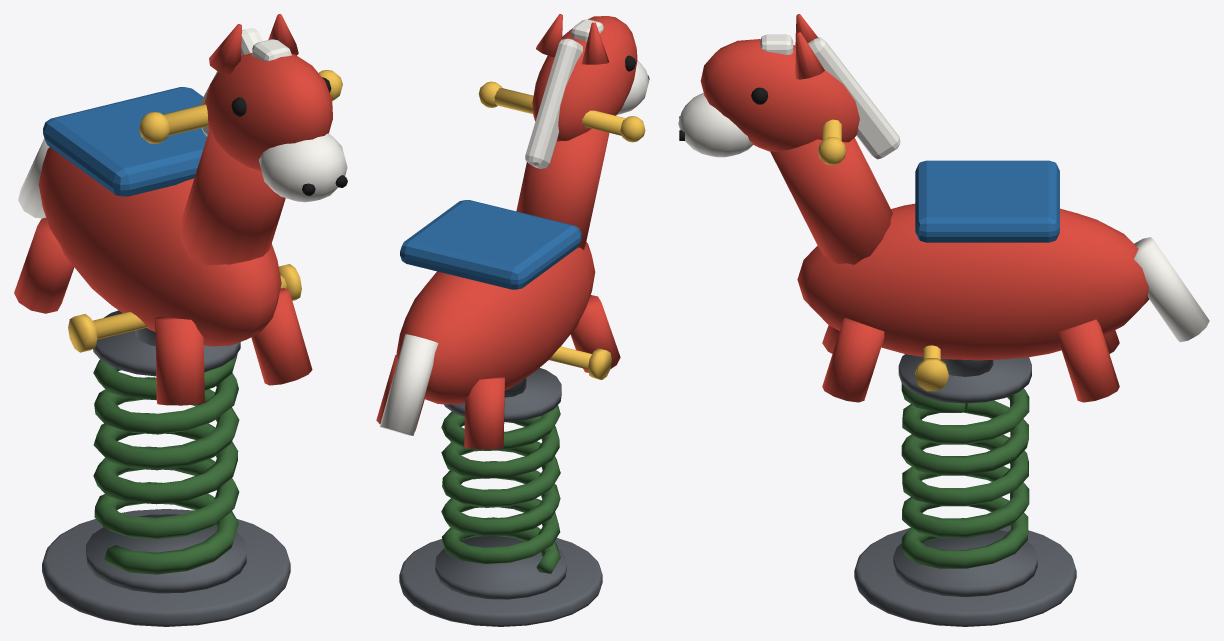
Rendered from springRider.glb.
3 renders of one model, left to right at view 1: azimuth 30°, elevation 25°; view 2: azimuth 150°, elevation 25°; view 3: azimuth 270°, elevation 25°, orthographic. The views are drawn at different scales.
Visible parts, largest first — view 1: horse, spring; view 2: horse, spring; view 3: horse, spring.
Boxes of the visible parts, x1,y1,x2,y2 form: horse: (14, 14, 347, 405); spring: (42, 354, 290, 626); horse: (376, 14, 649, 449); spring: (399, 405, 602, 626); horse: (678, 14, 1209, 403); spring: (854, 383, 1076, 626).
Bounding box in the file's own units: 0.4 × 1.11 × 0.9567.
